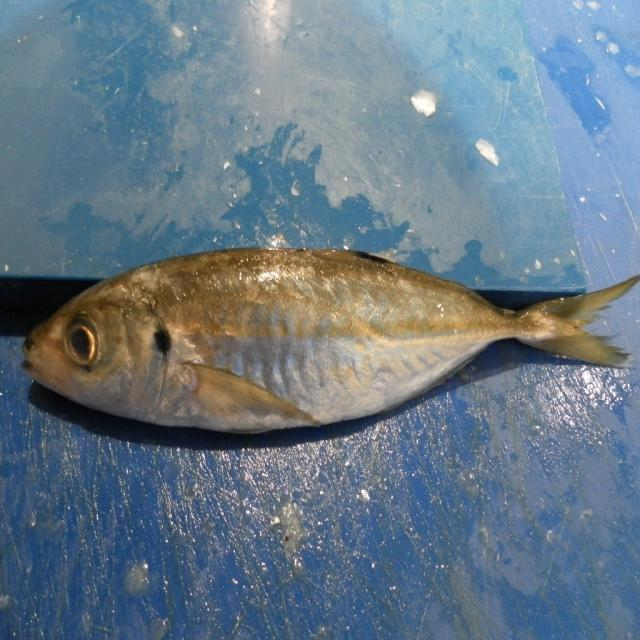Hourse-Mackerel-istavrit-: (23, 248, 640, 438)
